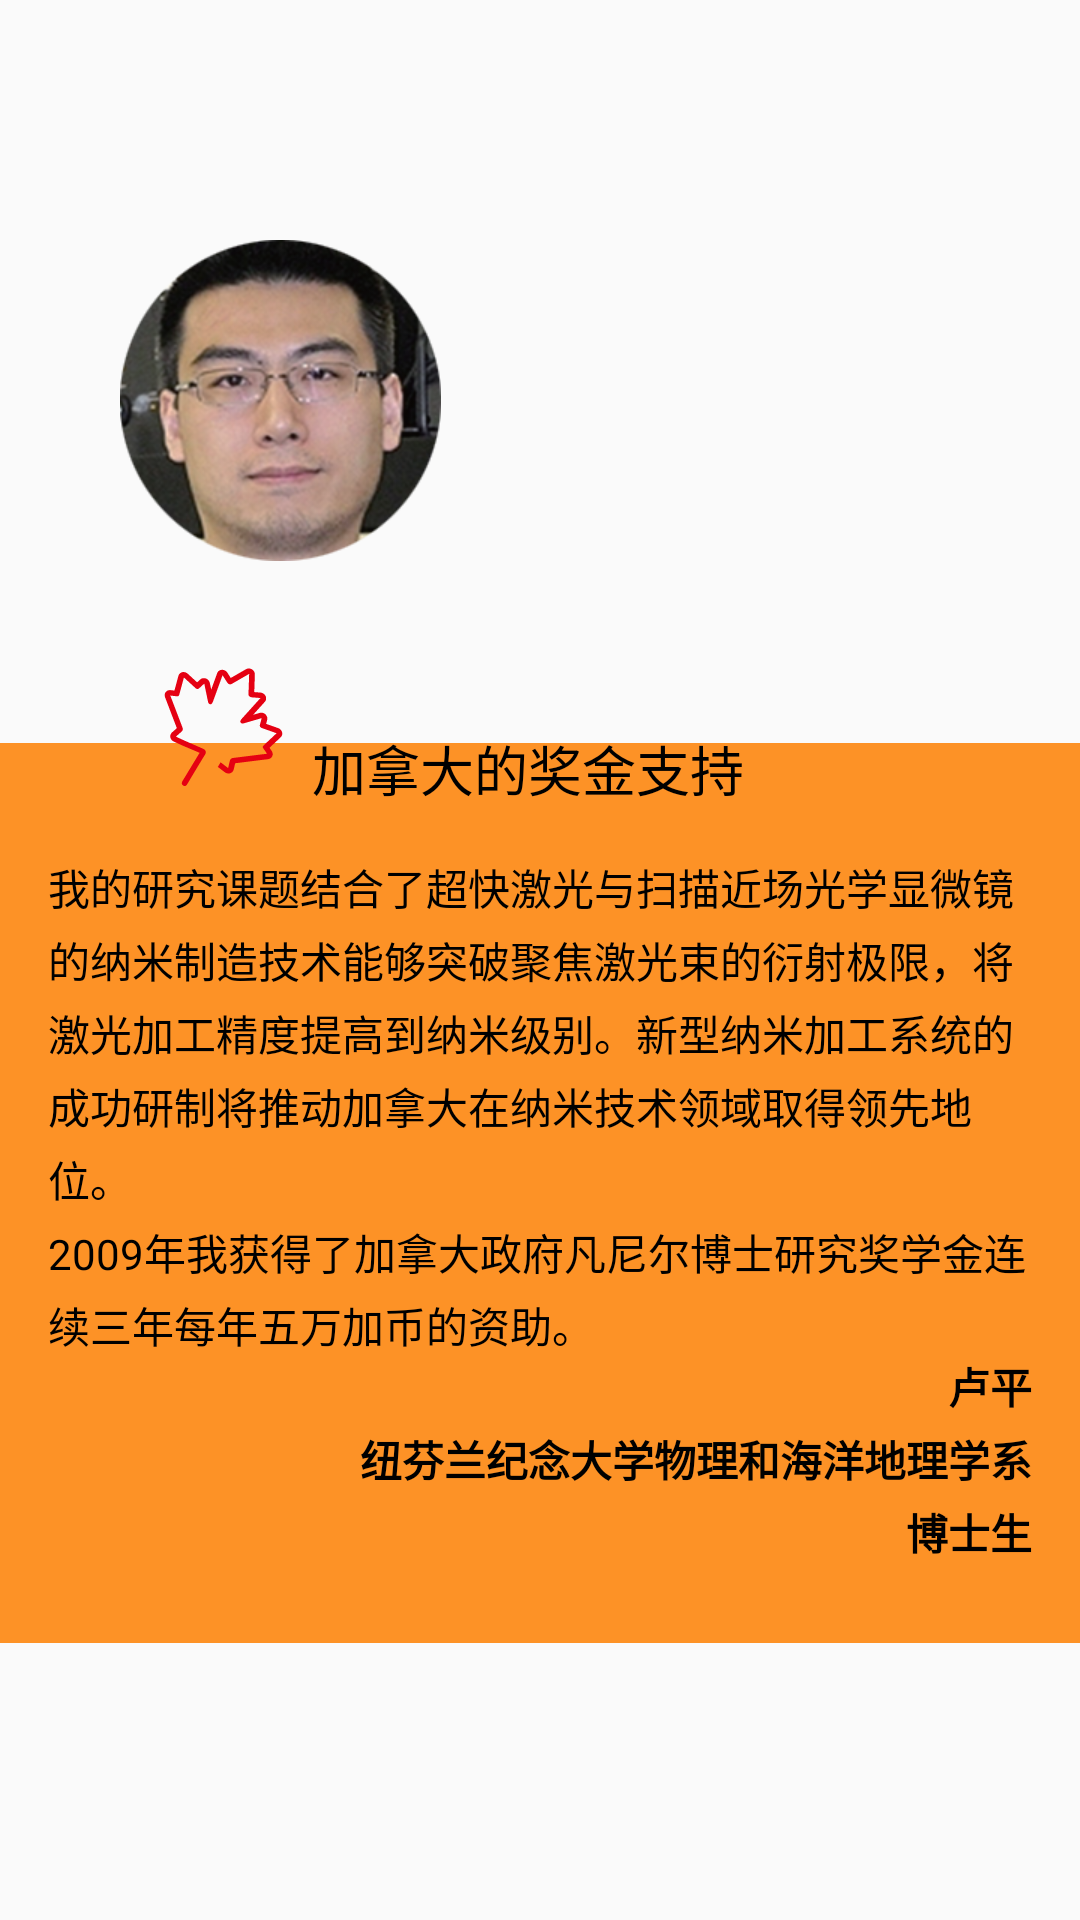

Icon click points for this 1080*1920 phone screenshot, format (x,y):
leaf: (216,729)
